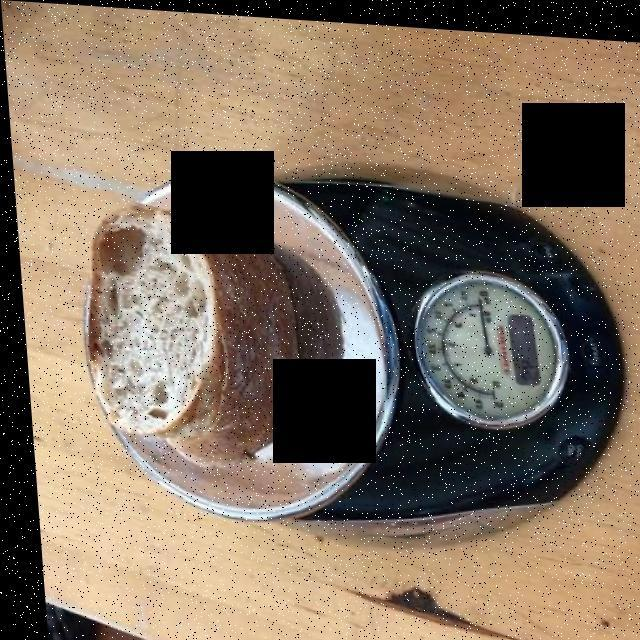bread: (84, 215, 284, 457)
